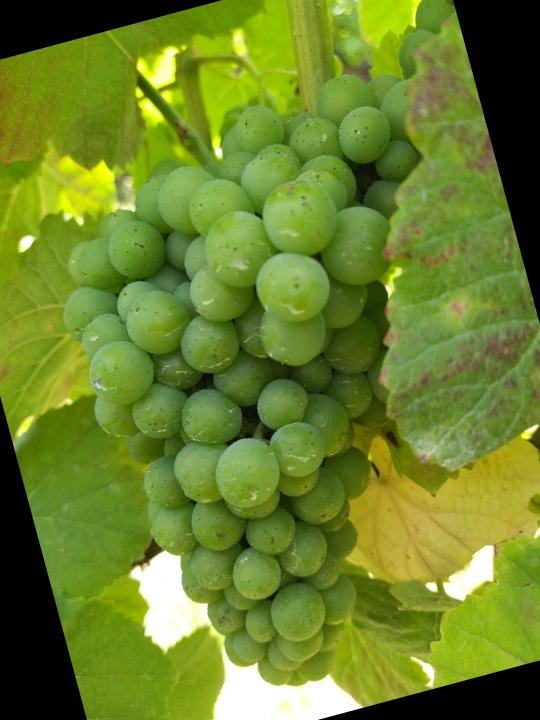grape: (17, 59, 540, 720)
